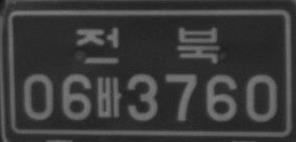0: (245, 73, 278, 122), (23, 72, 54, 121)
3: (126, 72, 158, 121)
6: (60, 71, 92, 121), (205, 72, 237, 122)
7: (164, 72, 199, 122)
바: (96, 76, 122, 117)
전북_D: (76, 26, 220, 64)
